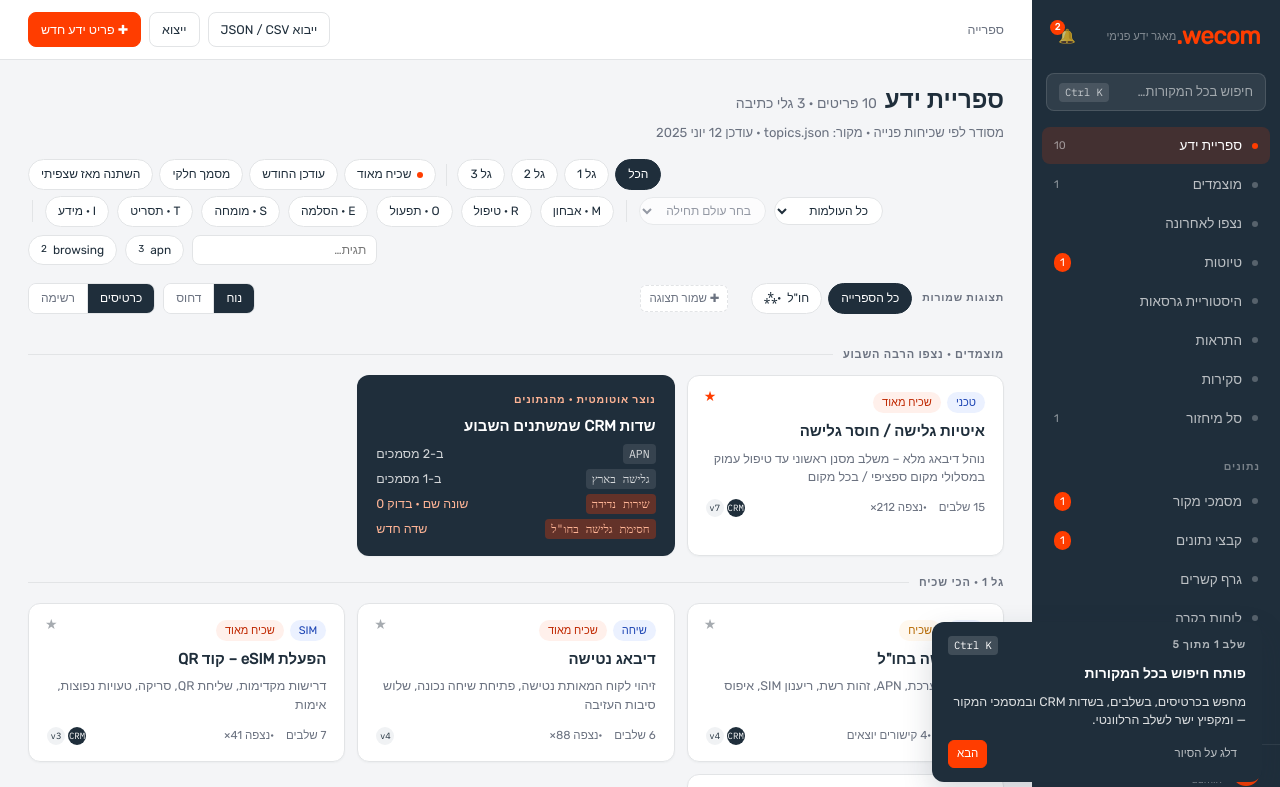
parity · palette › offers only things that are a document when asked which document to open
The width and height of the screenshot is (1280, 787).
Type keys "{Alt>}t{/Alt}"
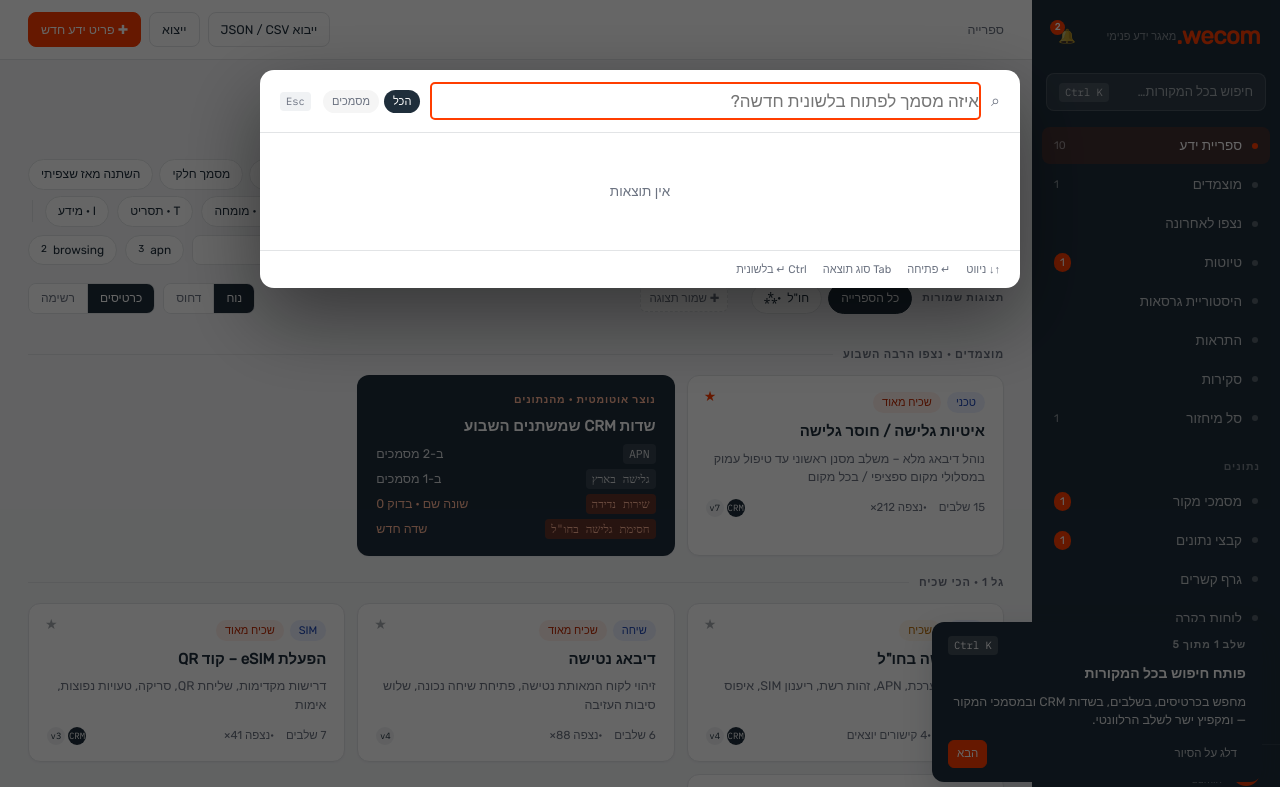
Type "sim" into the field with placeholder "איזה מסמך לפתוח בלשונית חדשה?".
click(706, 101); type("sim")  # box [432,84,979,118]
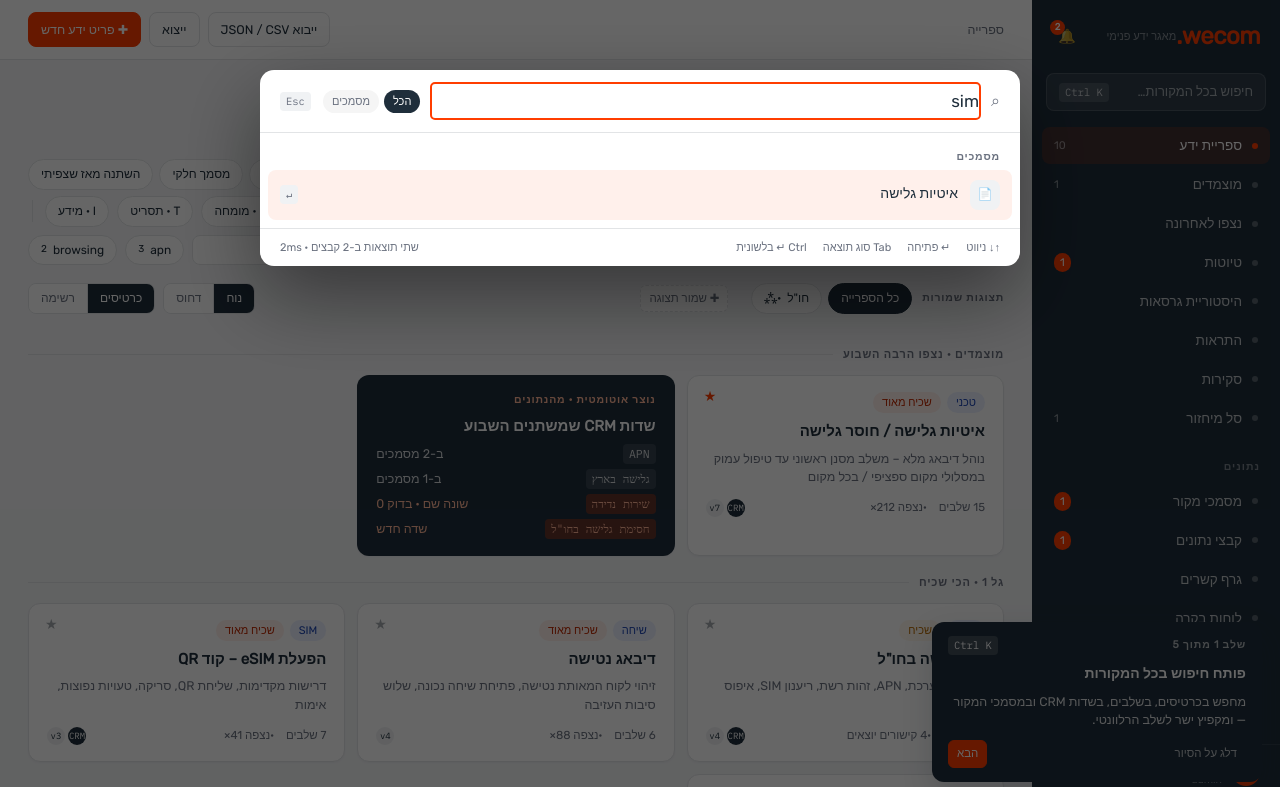
Expected: the element with class "res" does not show "שדות CRM"
Expected: the element with class "res" shows "איטיות גלישה", [880,185,958,202]
